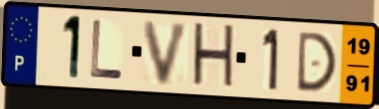1: (58, 13, 84, 84), (260, 27, 280, 93)
D: (294, 30, 339, 94)
H: (190, 20, 236, 93)
L: (88, 18, 126, 83)
V: (141, 19, 193, 89)
